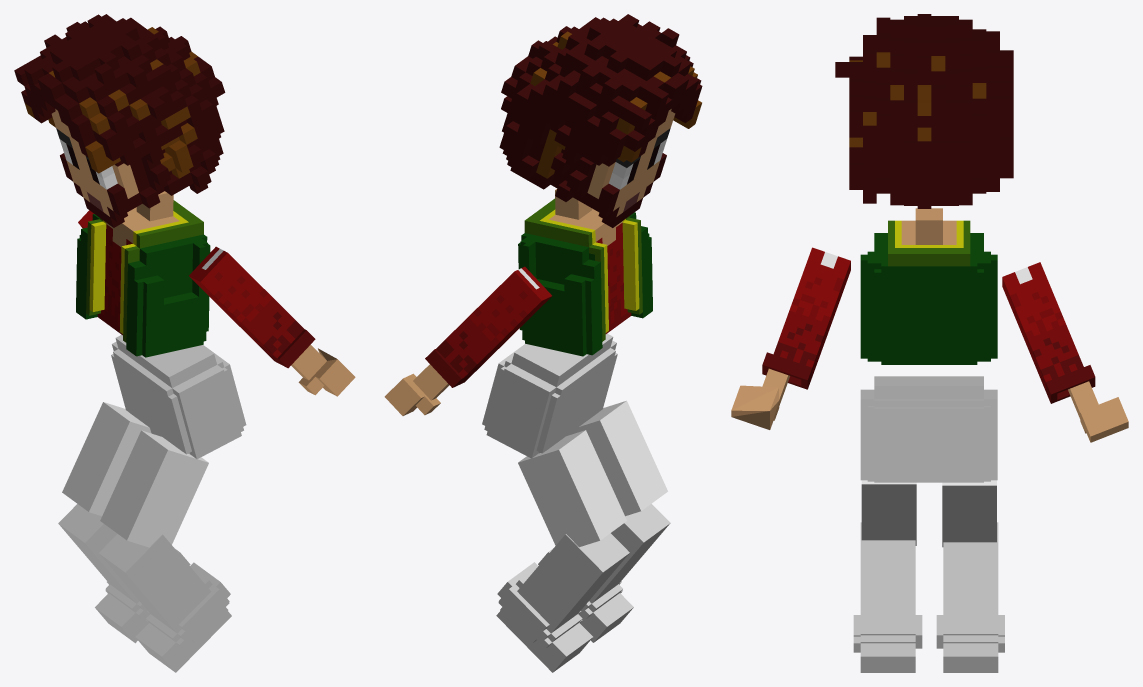
The model's file is Jump4.fbx.
3 views of the same model, side by side, from view 1: azimuth 30°, elevation 25°; view 2: azimuth 150°, elevation 25°; view 3: azimuth 270°, elevation 25° (orthographic). The views are drawn at different scales.
Visible parts, largest first — view 1: Jump4; view 2: Jump4; view 3: Jump4.
Part boxes in pixels (x1,y1,x2,y2): Jump4: (14, 14, 355, 672); Jump4: (384, 14, 702, 672); Jump4: (731, 14, 1128, 672).
Size of the model in its own units: 74.83 by 209 by 117.
